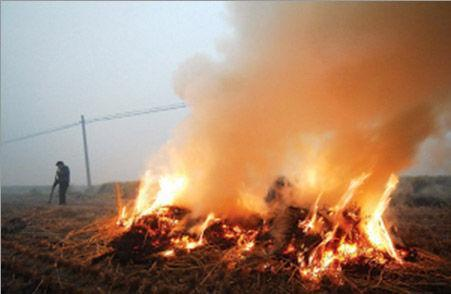fire: (109, 170, 421, 273)
